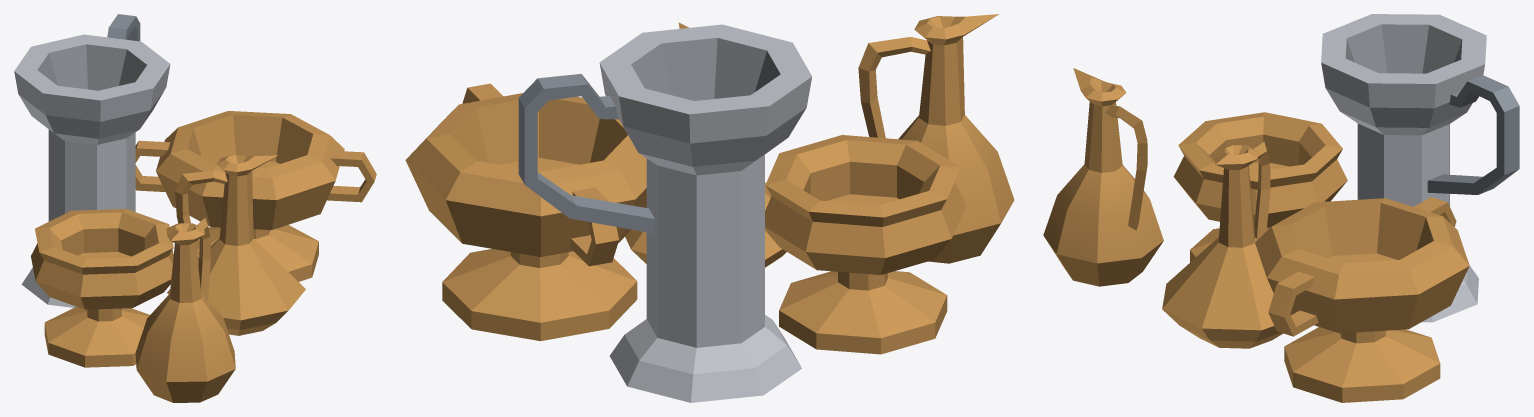
File: SM_Prop_Gold_Plates_Preset_09.glb
3 views of the same model, side by side, from view 1: azimuth 30°, elevation 25°; view 2: azimuth 150°, elevation 25°; view 3: azimuth 270°, elevation 25° (orthographic). The views are drawn at different scales.
Visible parts, largest first — view 1: SM_Prop_Gold_Plates_Preset_09; view 2: SM_Prop_Gold_Plates_Preset_09; view 3: SM_Prop_Gold_Plates_Preset_09.
Boxes of the visible parts, box(x1,y1,x2,y2) form: SM_Prop_Gold_Plates_Preset_09: box(14, 14, 376, 402); SM_Prop_Gold_Plates_Preset_09: box(405, 14, 1014, 402); SM_Prop_Gold_Plates_Preset_09: box(1043, 14, 1519, 402).
Bounding box in the file's own units: 1.02 × 0.6065 × 1.06.
Materials: 1 (1 with a texture image).
